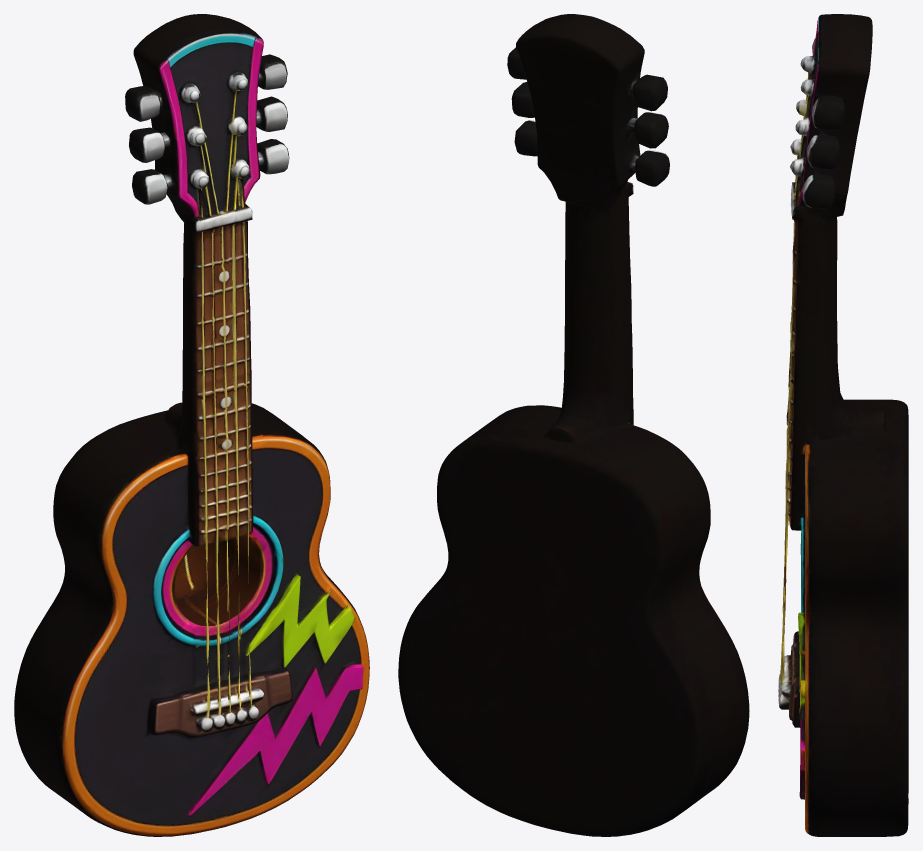
File: NPC_busker_guitar.glb
3 renders of one model, left to right at view 1: azimuth 30°, elevation 25°; view 2: azimuth 150°, elevation 25°; view 3: azimuth 270°, elevation 25°, orthographic.
Visible parts, largest first — view 1: tripo_node_d5cd1ce9-9f7d-4a74-89e7-ae66a6f109ba; view 2: tripo_node_d5cd1ce9-9f7d-4a74-89e7-ae66a6f109ba; view 3: tripo_node_d5cd1ce9-9f7d-4a74-89e7-ae66a6f109ba.
Boxes of the visible parts, x1,y1,x2,y2 form: tripo_node_d5cd1ce9-9f7d-4a74-89e7-ae66a6f109ba: [14, 14, 369, 836]; tripo_node_d5cd1ce9-9f7d-4a74-89e7-ae66a6f109ba: [398, 14, 749, 836]; tripo_node_d5cd1ce9-9f7d-4a74-89e7-ae66a6f109ba: [778, 14, 908, 836].
Size of the model in its own units: 0.4104 by 1 by 0.1499.
1 material, 1 textured.
